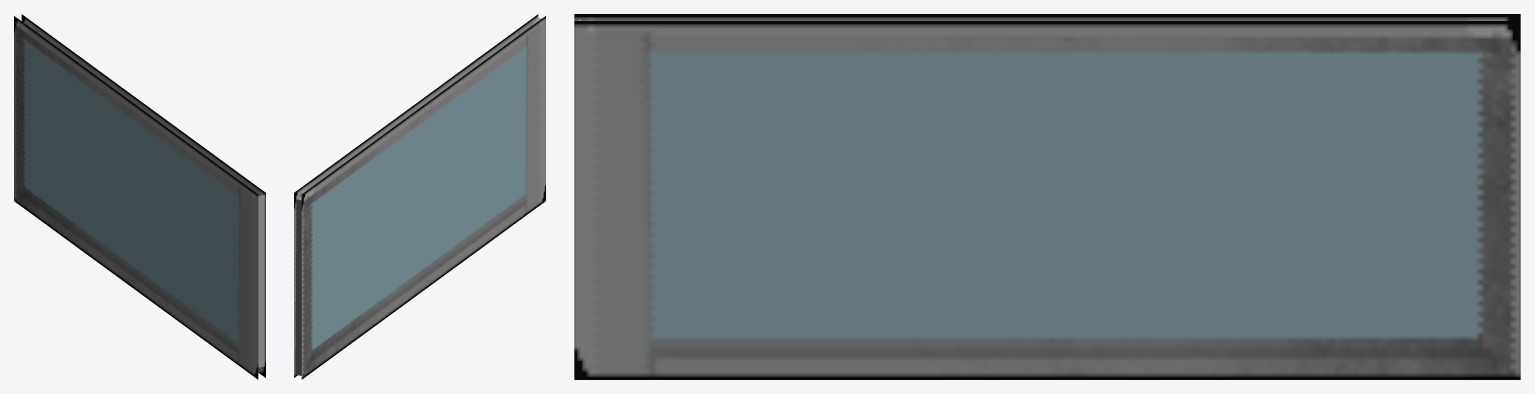
Rendered from pz_native_fixtures_doors_01_112_frame.obj.
The picture shows the model from 3 angles, left to right: view 1: azimuth 30°, elevation 25°; view 2: azimuth 150°, elevation 25°; view 3: azimuth 270°, elevation 25°; orthographic projection. The views are drawn at different scales.
Visible parts, largest first — view 1: pz_native_fixtures_doors_01_112_frame; view 2: pz_native_fixtures_doors_01_112_frame; view 3: pz_native_fixtures_doors_01_112_frame.
Boxes of the visible parts, x1=… form: pz_native_fixtures_doors_01_112_frame: x1=14, y1=14, x2=265, y2=379; pz_native_fixtures_doors_01_112_frame: x1=294, y1=14, x2=545, y2=379; pz_native_fixtures_doors_01_112_frame: x1=574, y1=14, x2=1520, y2=379.
Bounding box in the file's own units: 0.045 × 1.06 × 2.54.
Materials: 1 (1 with a texture image).
